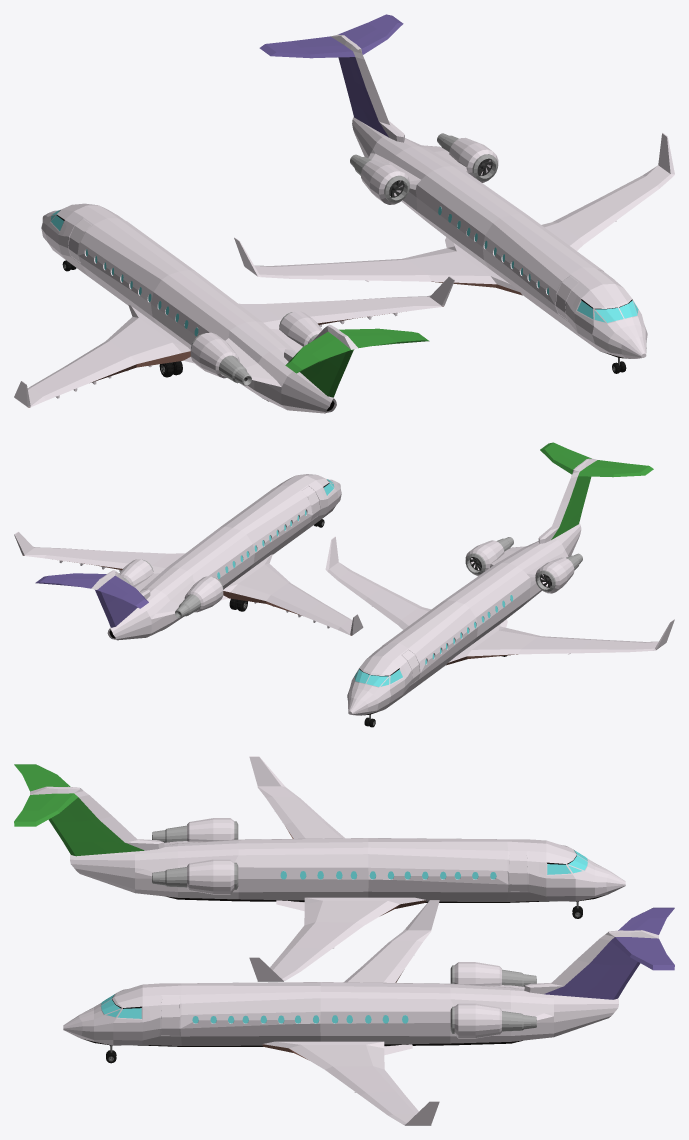
File: low_poly_bombardier_cr7_airplane.glb
The picture shows the model from 3 angles, top to bottom: view 1: azimuth 30°, elevation 25°; view 2: azimuth 150°, elevation 25°; view 3: azimuth 270°, elevation 25°; orthographic projection. The views are drawn at different scales.
Visible parts, largest first — view 1: plane1_0, plane1.001_1; view 2: plane1.001_1, plane1_0; view 3: plane1_0, plane1.001_1.
Part boxes in pixels (x1,y1,x2,y2): plane1_0: (234, 14, 674, 373); plane1.001_1: (14, 203, 454, 413); plane1.001_1: (325, 442, 674, 727); plane1_0: (14, 474, 363, 640); plane1_0: (63, 900, 674, 1125); plane1.001_1: (14, 756, 625, 981).
Size of the model in its own units: 23.99 by 4.22 by 19.39.
